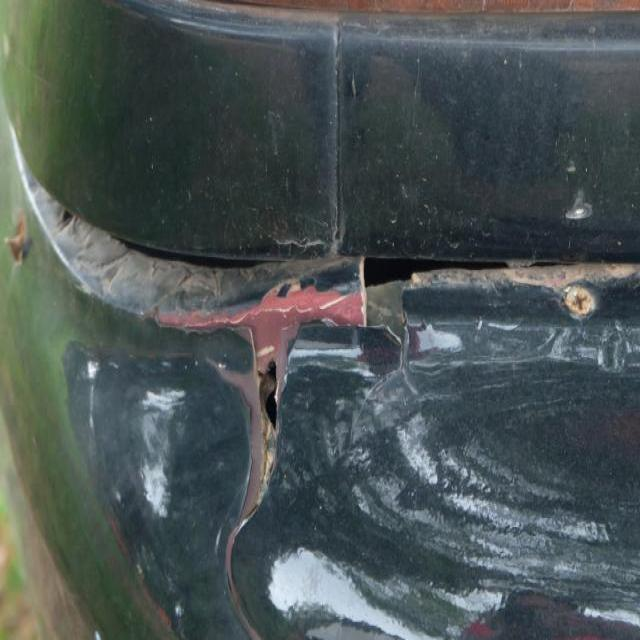Dent: (264, 231, 334, 260), (554, 515, 614, 544), (265, 105, 281, 153), (338, 15, 374, 32), (482, 318, 525, 330), (412, 56, 421, 113), (318, 292, 348, 306), (596, 338, 605, 366), (1, 33, 9, 57), (349, 74, 356, 95), (399, 182, 408, 197), (564, 161, 574, 171), (587, 24, 596, 34), (476, 318, 483, 330), (388, 216, 396, 223)
